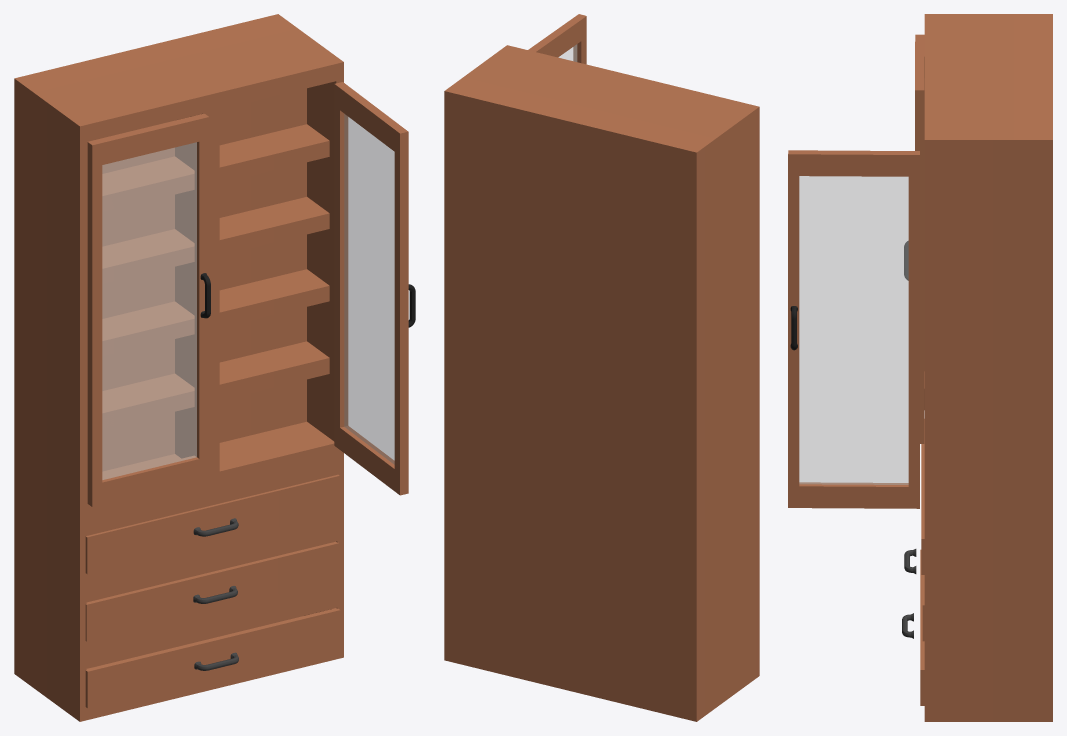
File: laboratory-cabinet-2.glb
3 views of the same model, side by side, from view 1: azimuth 30°, elevation 25°; view 2: azimuth 150°, elevation 25°; view 3: azimuth 270°, elevation 25° (orthographic). The views are drawn at different scales.
Visible parts, largest first — view 1: Object_159, Object_168, Object_167, Object_171, Object_170, Object_165, Object_163, Object_161; view 2: Object_159, Object_170; view 3: Object_159, Object_171, Object_170, Object_167, Object_165, Object_161.
Boxes of the visible parts, x1,y1,x2,y2 form: Object_159: [14, 14, 343, 721]; Object_168: [102, 142, 196, 479]; Object_167: [87, 113, 210, 506]; Object_171: [344, 114, 394, 464]; Object_170: [334, 82, 415, 495]; Object_165: [85, 608, 340, 708]; Object_163: [85, 541, 339, 641]; Object_161: [85, 474, 339, 573]; Object_159: [444, 45, 759, 721]; Object_170: [528, 14, 586, 64]; Object_159: [924, 14, 1052, 721]; Object_171: [799, 176, 908, 484]; Object_170: [788, 150, 919, 508]; Object_167: [904, 34, 924, 443]; Object_165: [902, 549, 924, 705]; Object_161: [921, 419, 924, 574].
Bounding box in the file's own units: 0.8826 × 1.87 × 0.771.
2 materials, 1 textured.
